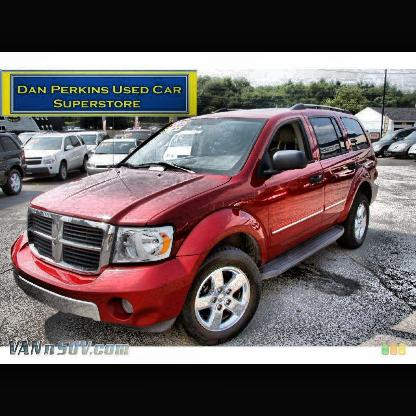Dodge Durango SUV 2007: (9, 104, 379, 347)
